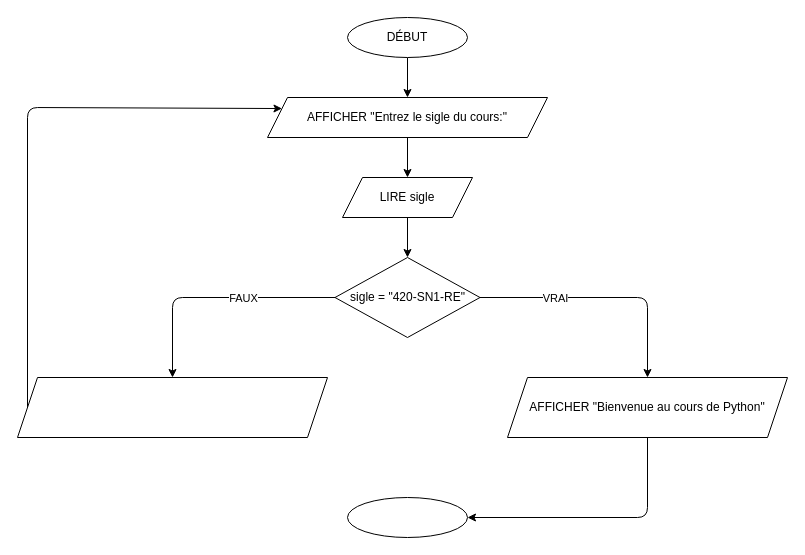
The diagram is 805 pixels wide and 555 high, and some of its shapes have lost their labels. The shapes that lost their labels are listed below. From the top down, each one's centre as x and y in pixels, then its label:
[172,407]: AFFICHER "Mauvais cours. Veuillez réessayer."
[407,517]: FIN
